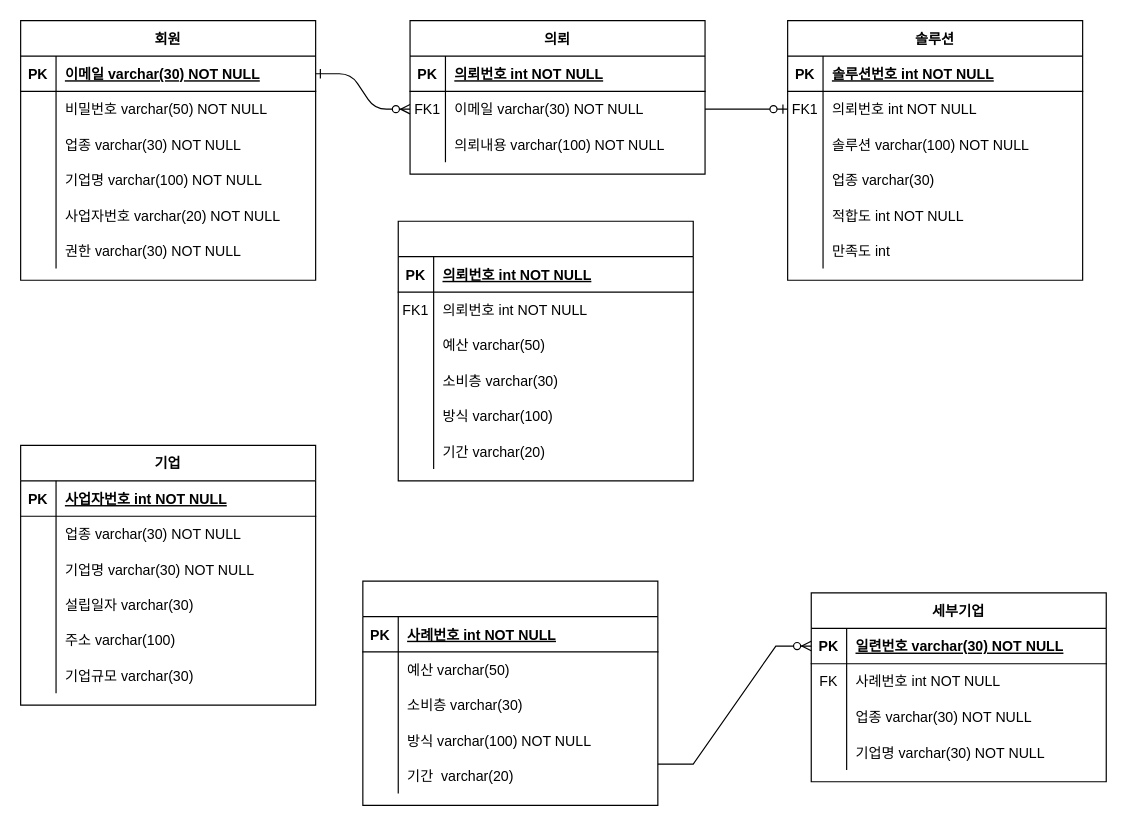
This 1127x826 diagram has some shape labels left out. The shapes that lost their labels are listed below. From the top down, each one's box as (x1, y1, x2, y2) in pixels, then its label:
(397, 220, 693, 481): 의뢰데이터
(362, 580, 658, 805): 사례
